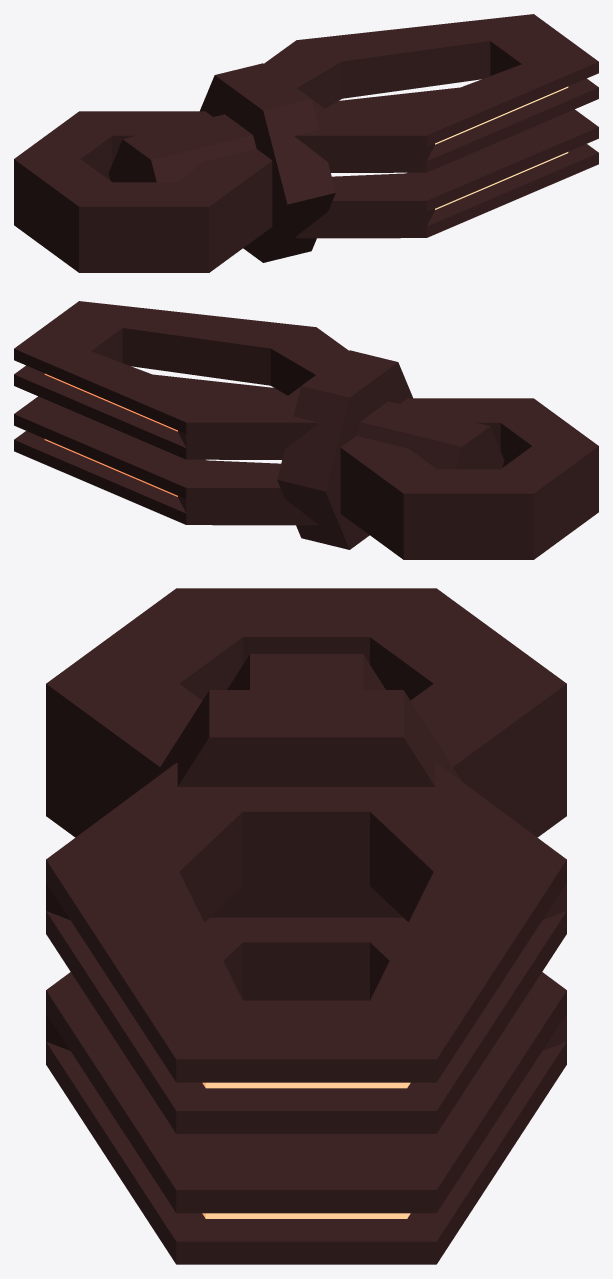
The model's file is DoubleCyberLance.fbx.
3 renders of one model, top to bottom at view 1: azimuth 30°, elevation 25°; view 2: azimuth 150°, elevation 25°; view 3: azimuth 270°, elevation 25°, orthographic. The views are drawn at different scales.
Visible parts, largest first — view 1: Cylinder.017, Cylinder.018, Cylinder.021, Cylinder.020; view 2: Cylinder.017, Cylinder.018, Cylinder.021, Cylinder.020; view 3: Cylinder.018, Cylinder.021, Cylinder.017, Cylinder.020.
Part boxes in pixels (x1,y1,x2,y2): Cylinder.017: [14, 111, 272, 272]; Cylinder.018: [264, 14, 598, 172]; Cylinder.021: [295, 87, 598, 238]; Cylinder.020: [200, 63, 335, 262]; Cylinder.017: [340, 398, 598, 559]; Cylinder.018: [14, 301, 348, 459]; Cylinder.021: [14, 374, 317, 525]; Cylinder.020: [277, 350, 412, 549]; Cylinder.018: [46, 763, 566, 1133]; Cylinder.021: [46, 917, 566, 1264]; Cylinder.017: [46, 588, 566, 837]; Cylinder.020: [151, 690, 461, 917].
Bounding box in the file's own units: 1.41 × 3.24 × 0.9079.
